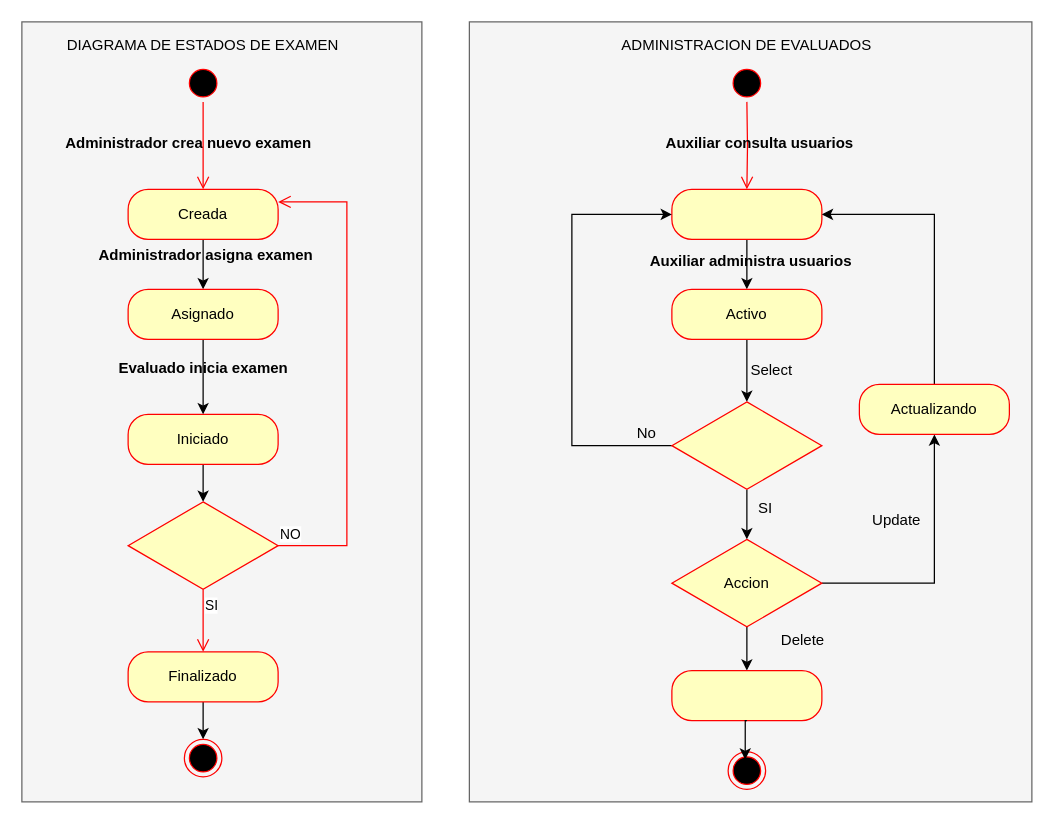
The diagram is 1054 pixels wide and 824 high, and some of its shapes have lost their labels. Each missing label, with the box of its shape:
Creados: (671, 188, 822, 239)
Eliminado: (671, 669, 822, 721)
Existe: (671, 401, 822, 489)
Termino: (127, 501, 278, 589)
